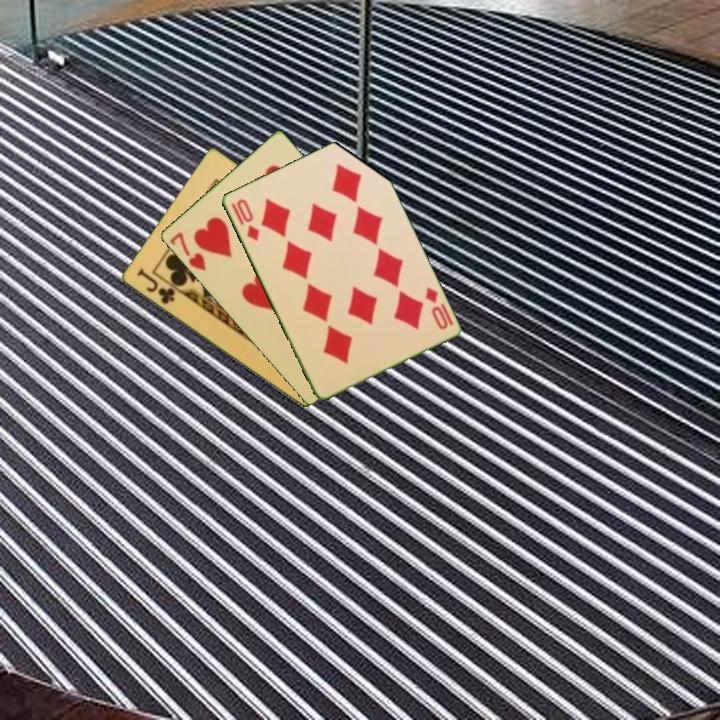10d: (227, 195, 262, 244), (421, 283, 451, 333)
7h: (165, 229, 209, 274)
Jc: (133, 265, 184, 307)
